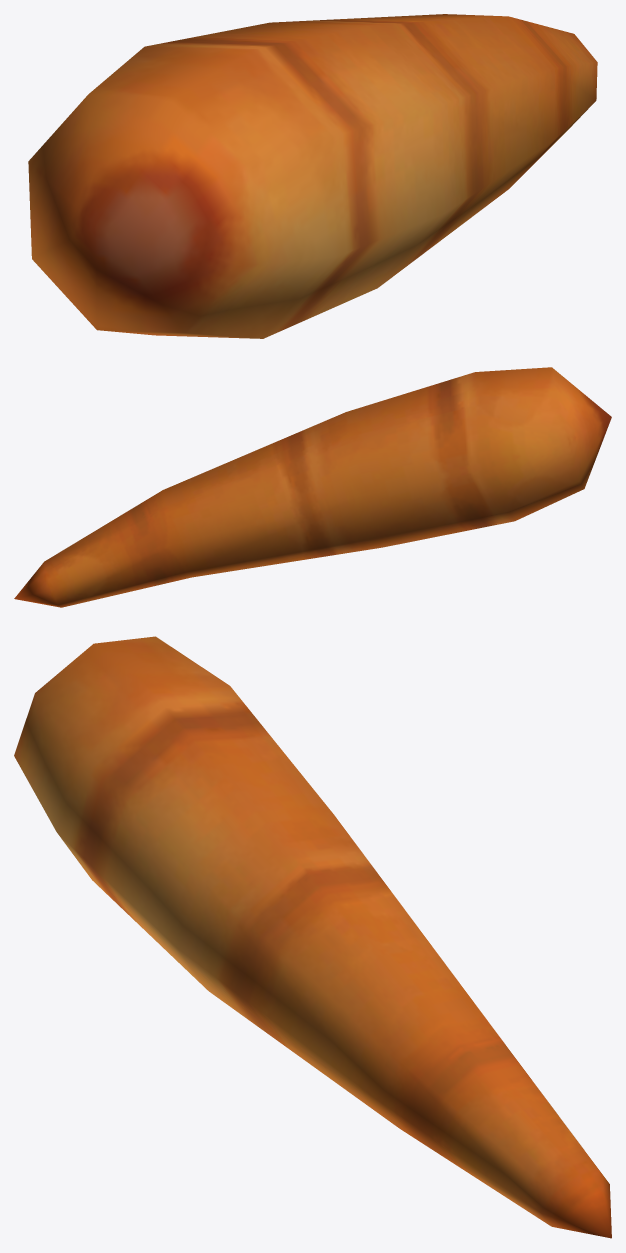
Rendered from Carrot.fbx.
The picture shows the model from 3 angles, top to bottom: view 1: azimuth 30°, elevation 25°; view 2: azimuth 150°, elevation 25°; view 3: azimuth 270°, elevation 25°; orthographic projection. The views are drawn at different scales.
Parts seen in each view (by area): view 1: Carrot; view 2: Carrot; view 3: Carrot.
Boxes of the visible parts, x1,y1,x2,y2 form: Carrot: (28, 14, 597, 338); Carrot: (14, 367, 611, 607); Carrot: (14, 636, 611, 1238).
Bounding box in the file's own units: 0.1259 × 0.0596 × 0.0993.
1 material, 1 textured.
